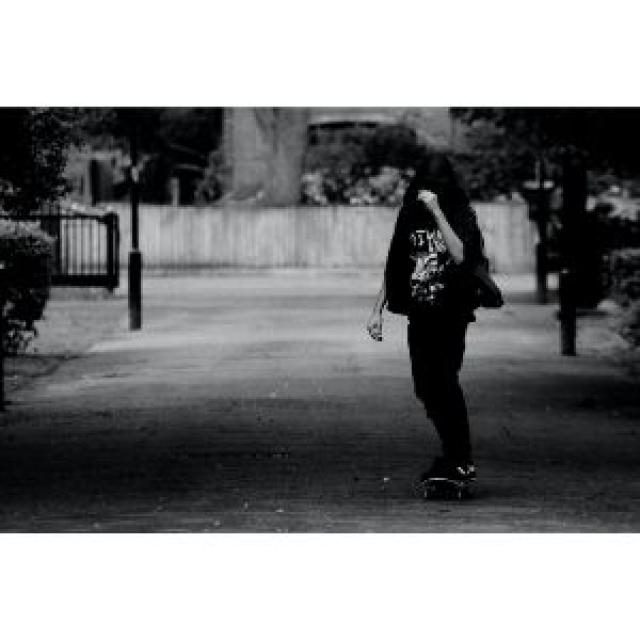nonfall: (369, 132, 530, 514)
